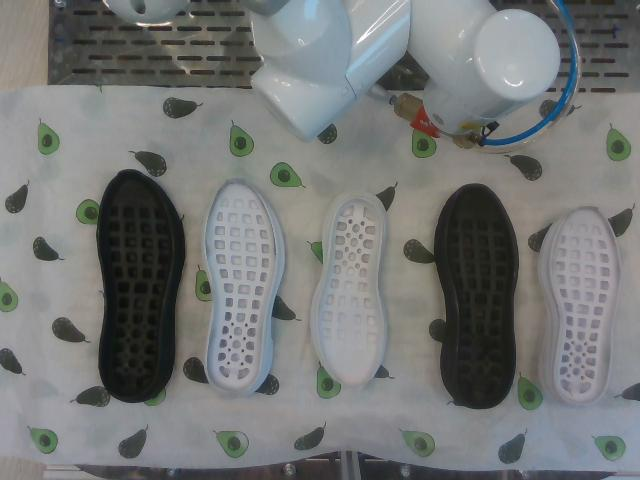shoes: (100, 171, 172, 397), (206, 178, 277, 393), (447, 186, 514, 406), (551, 206, 620, 403), (318, 199, 384, 388)
